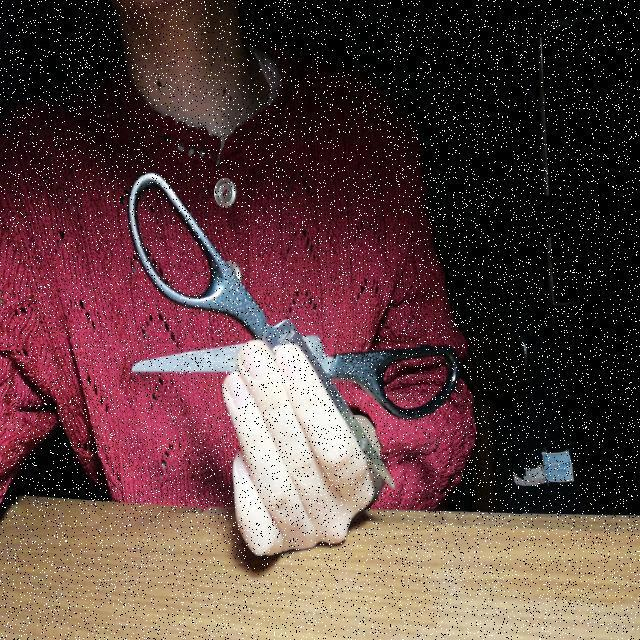scissors: (115, 153, 472, 503)
